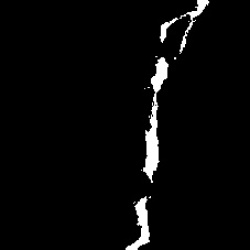crack: (126, 1, 212, 249)
